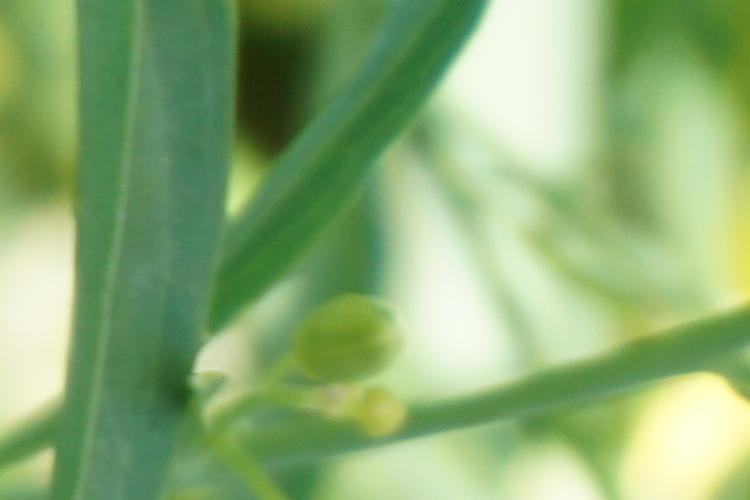bud: (282, 294, 415, 387)
